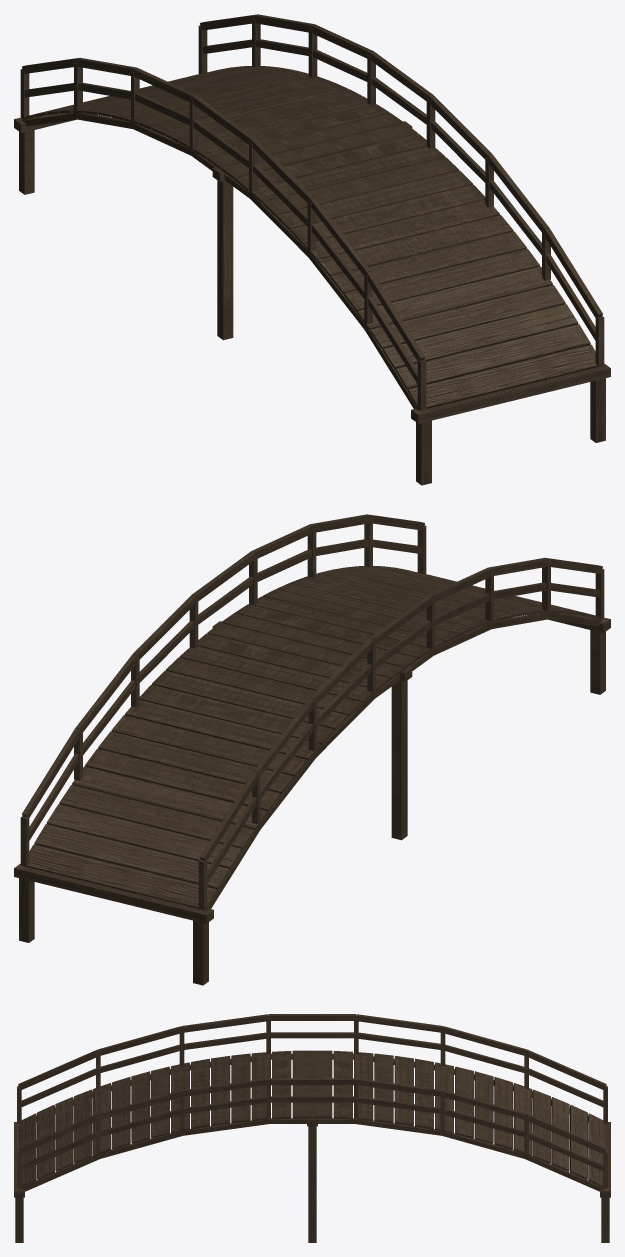
The model's file is Bridge4Animation_Modular.glb.
3 views of the same model, one above another, from view 1: azimuth 30°, elevation 25°; view 2: azimuth 150°, elevation 25°; view 3: azimuth 270°, elevation 25° (orthographic). The views are drawn at different scales.
Visible parts, largest first — view 1: BA_Floor_01, BA_Floor_02, BA_Wall_01, BA_Wall_03, BA_Wall_02, BA_Wall_04, BA_Trim_01, BA_Trim_02, BA_Roof_01; view 2: BA_Roof_01, BA_Trim_02, BA_Trim_01, BA_Wall_03, BA_Wall_04, BA_Wall_02, BA_Wall_01, BA_Floor_02, BA_Floor_01; view 3: BA_Wall_03, BA_Roof_01, BA_Floor_01, BA_Floor_02, BA_Trim_02, BA_Wall_02, BA_Wall_04, BA_Wall_01, BA_Trim_01.
Boxes of the visible parts, x1,y1,x2,y2 form: BA_Floor_01: (378, 246, 610, 485); BA_Floor_02: (333, 184, 560, 350); BA_Wall_01: (288, 133, 515, 288); BA_Wall_03: (198, 56, 426, 340); BA_Wall_02: (243, 89, 471, 236); BA_Wall_04: (153, 34, 381, 160); BA_Trim_01: (108, 20, 336, 137); BA_Trim_02: (63, 14, 290, 124); BA_Roof_01: (14, 16, 245, 194); BA_Roof_01: (14, 746, 246, 985); BA_Trim_02: (64, 684, 291, 850); BA_Trim_01: (109, 633, 336, 788); BA_Wall_03: (198, 556, 426, 840); BA_Wall_04: (153, 589, 381, 736); BA_Wall_02: (243, 534, 471, 660); BA_Wall_01: (288, 520, 516, 637); BA_Floor_02: (334, 514, 561, 624); BA_Floor_01: (379, 516, 610, 694); BA_Wall_03: (279, 1014, 345, 1242); BA_Roof_01: (544, 1057, 610, 1242); BA_Floor_01: (14, 1057, 80, 1242); BA_Floor_02: (80, 1036, 146, 1167); BA_Trim_02: (478, 1036, 544, 1167); BA_Wall_02: (213, 1014, 279, 1131); BA_Wall_04: (345, 1014, 411, 1131); BA_Wall_01: (146, 1021, 212, 1145); BA_Trim_01: (412, 1021, 478, 1145).
Size of the model in its own units: 2.75 by 3.01 by 10.
1 material, 1 textured.
